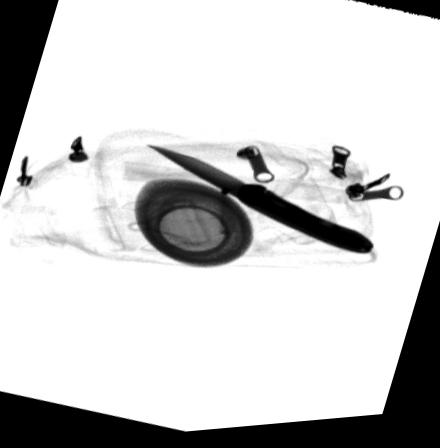Knife: (141, 145, 377, 261)
